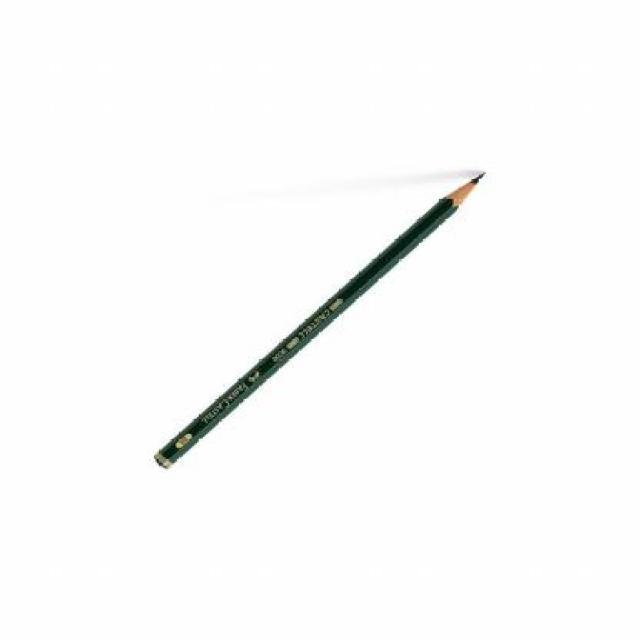pencil: (434, 157, 494, 223)
